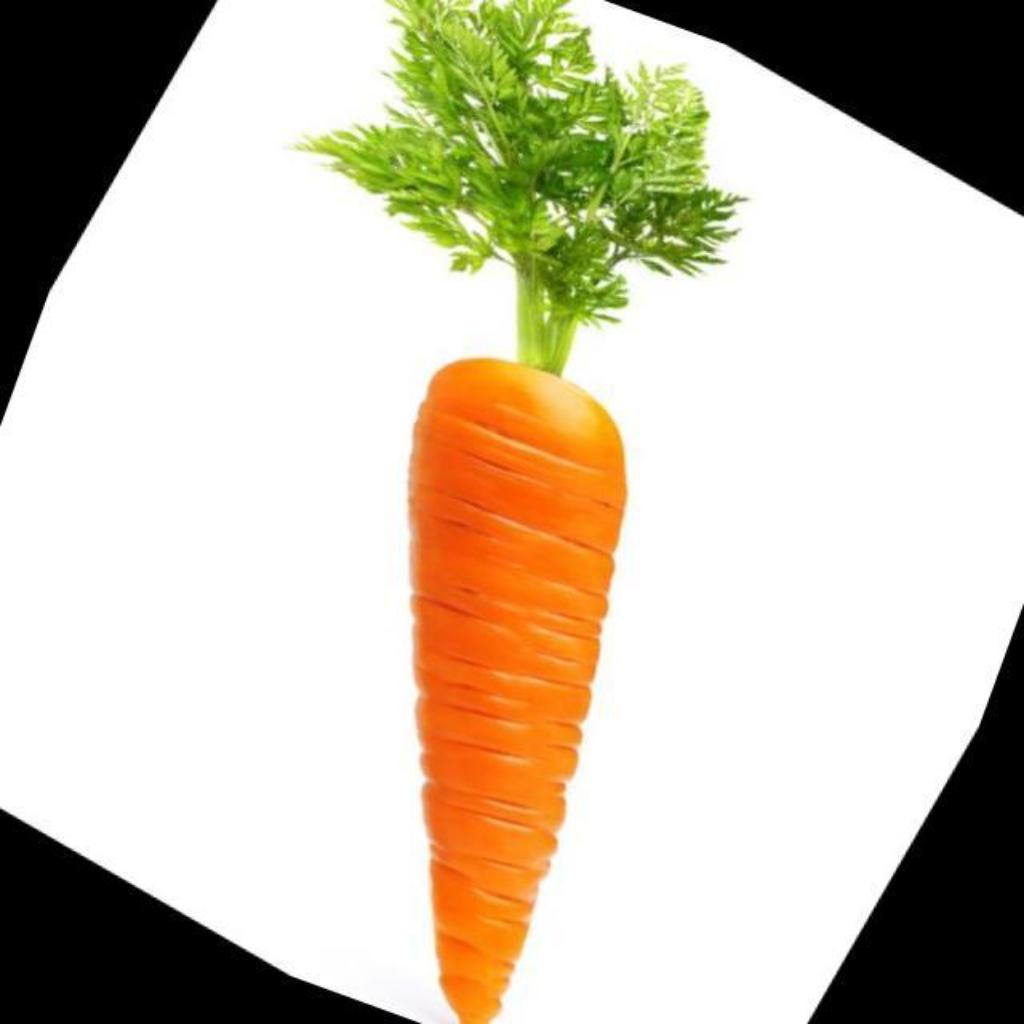carrot: (300, 0, 740, 1023)
